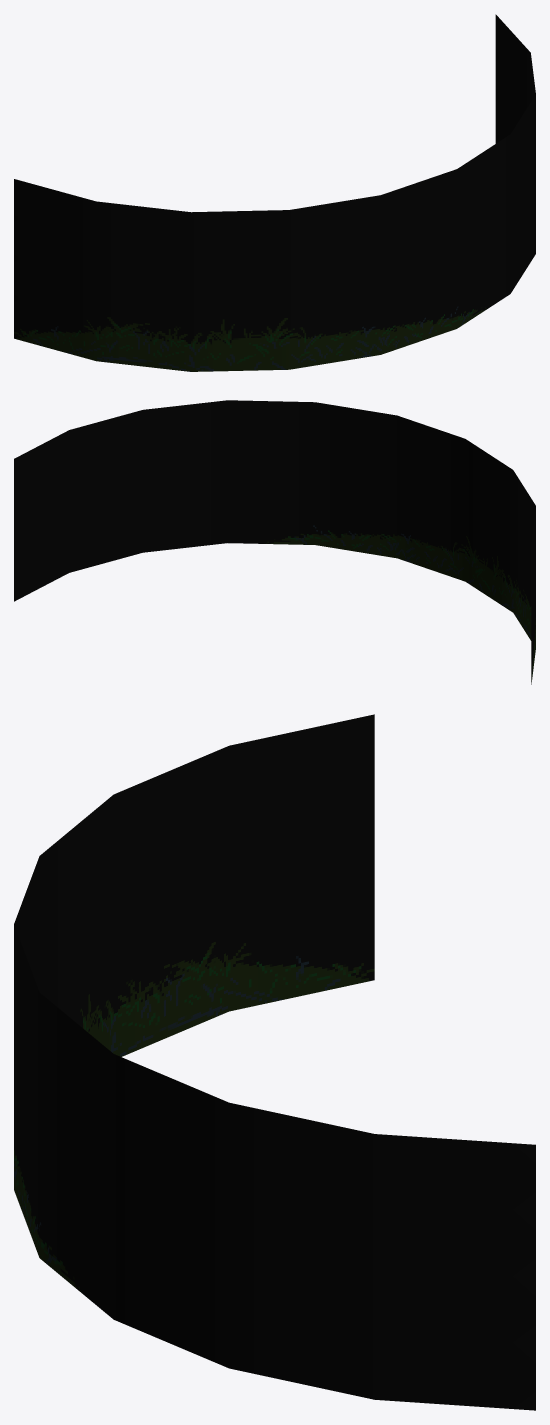
Rendered from cutscenemounds.glb.
3 renders of one model, top to bottom at view 1: azimuth 30°, elevation 25°; view 2: azimuth 150°, elevation 25°; view 3: azimuth 270°, elevation 25°, orthographic. The views are drawn at different scales.
Visible parts, largest first — view 1: planodetalhe_geo; view 2: planodetalhe_geo; view 3: planodetalhe_geo.
Part boxes in pixels (x1=…): planodetalhe_geo: x1=14, y1=14, x2=535, y2=371; planodetalhe_geo: x1=14, y1=400, x2=535, y2=684; planodetalhe_geo: x1=14, y1=714, x2=535, y2=1410.
Bounding box in the file's own units: 44.71 × 12.88 × 22.92.
1 material, 1 textured.
